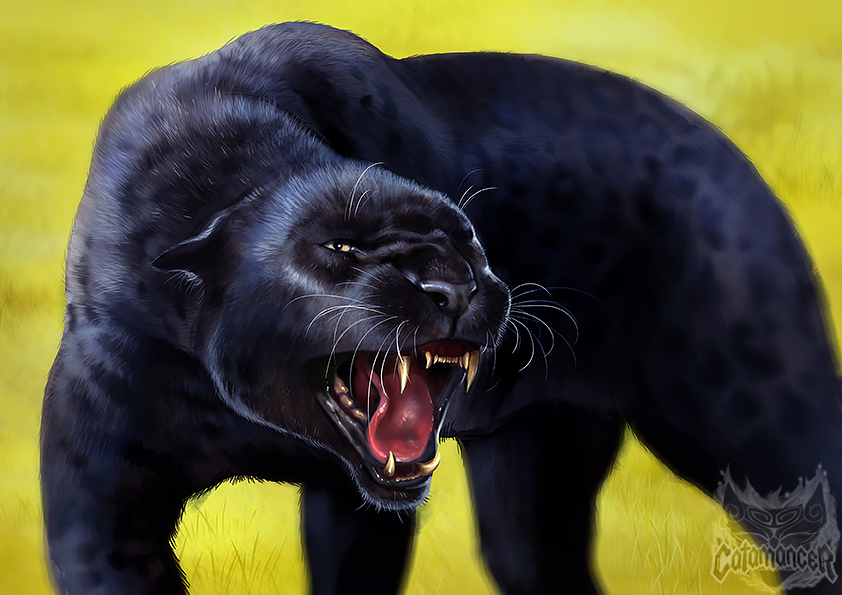panther: (37, 25, 833, 595)
